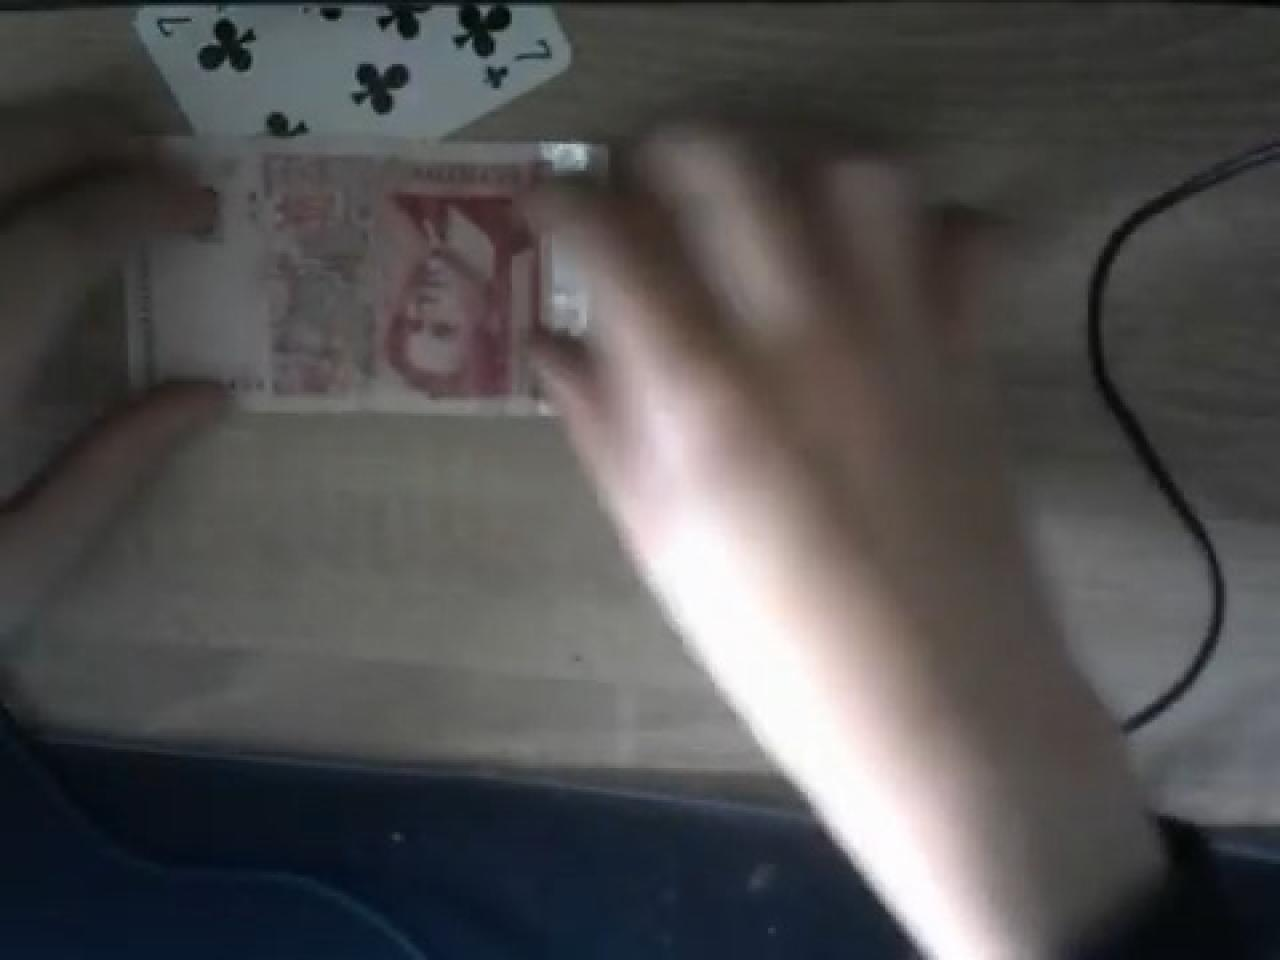5leva: (170, 146, 542, 395)
